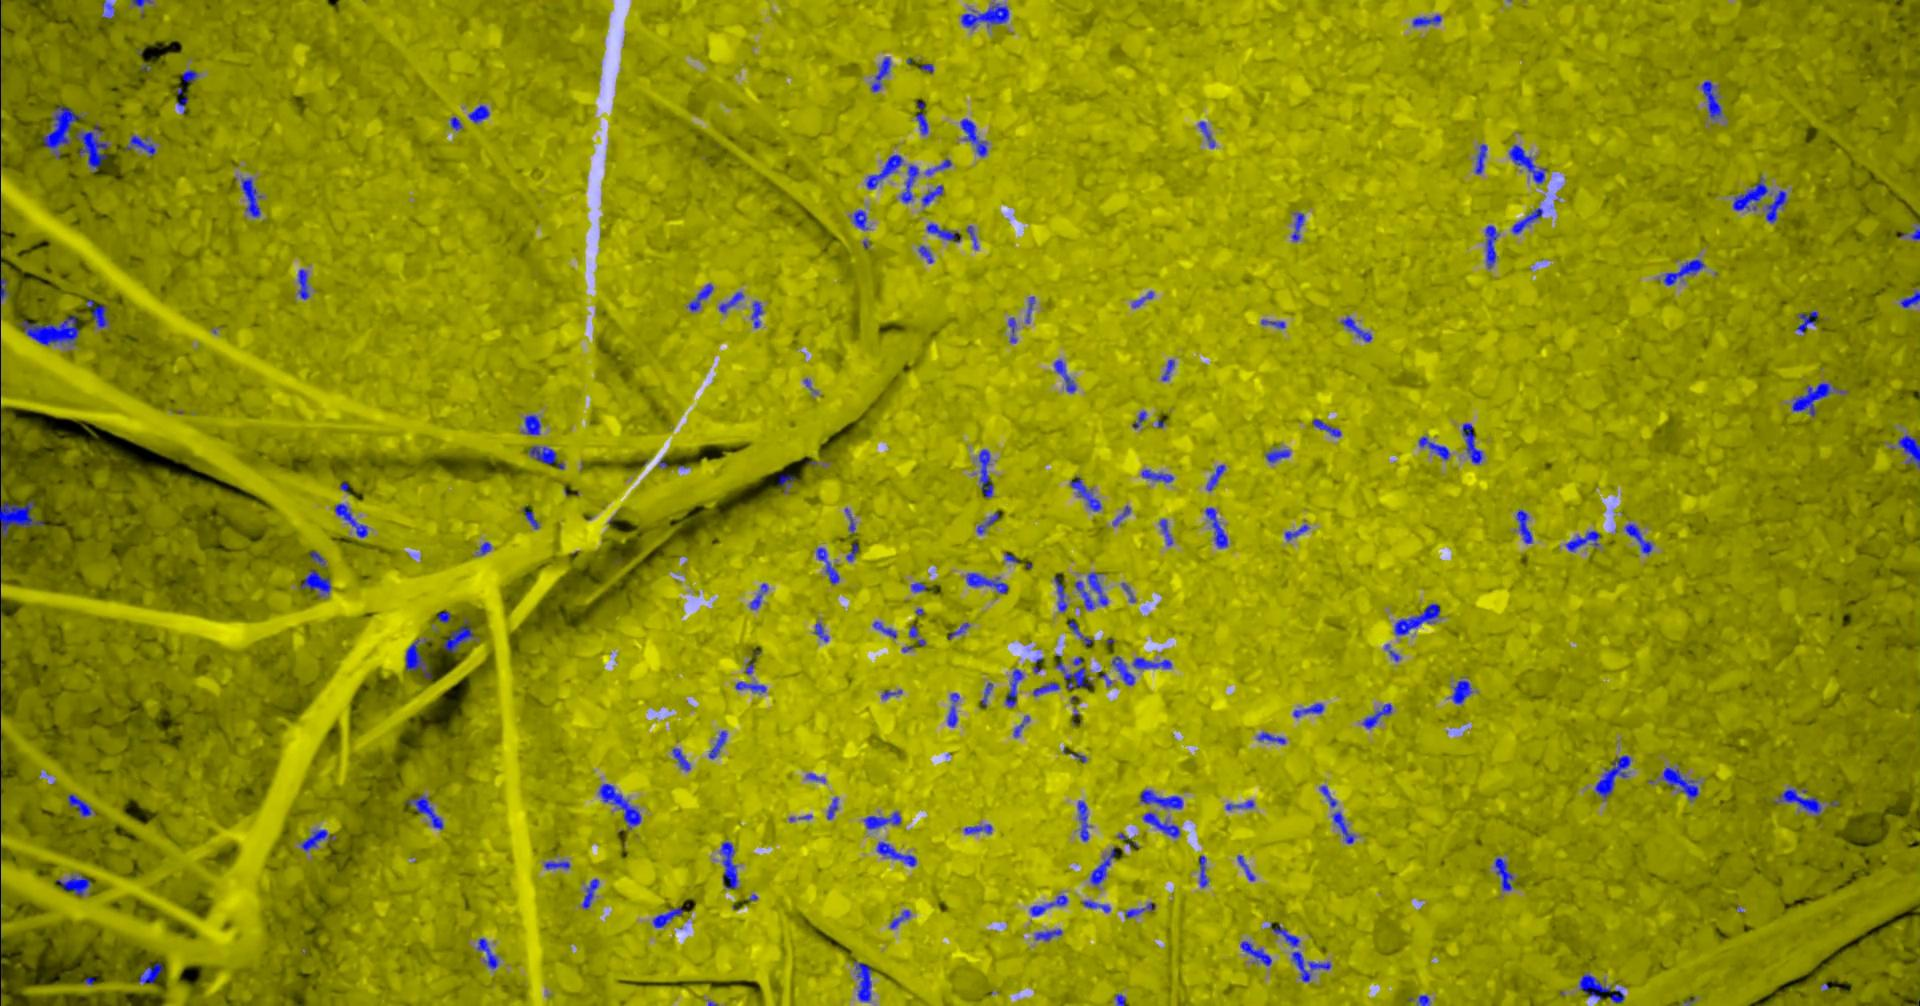ant: (1, 499, 44, 555), (43, 105, 83, 158), (599, 782, 643, 828), (22, 314, 81, 345), (1793, 382, 1848, 417), (77, 123, 110, 171), (1596, 754, 1632, 798), (1510, 144, 1548, 183), (1396, 603, 1441, 635), (1581, 973, 1625, 1005), (408, 795, 444, 829), (1057, 655, 1095, 688), (869, 154, 904, 188), (1663, 767, 1700, 800), (963, 3, 1010, 28), (1780, 788, 1823, 814), (1293, 951, 1332, 981), (1735, 177, 1769, 210), (1070, 476, 1103, 511), (337, 503, 370, 537), (1665, 259, 1705, 285), (877, 841, 918, 866), (963, 118, 989, 156), (1091, 847, 1117, 885), (408, 639, 433, 678), (444, 619, 474, 652), (1144, 812, 1181, 837), (1206, 507, 1229, 547), (968, 572, 1010, 593), (1463, 423, 1484, 464), (530, 445, 565, 469), (1625, 523, 1655, 553), (818, 547, 841, 584), (721, 841, 739, 888), (243, 177, 263, 217), (1512, 207, 1544, 232), (1703, 80, 1723, 119), (1142, 789, 1183, 808), (301, 569, 331, 594), (1242, 940, 1272, 965), (1364, 702, 1393, 728), (1567, 530, 1601, 551), (1342, 316, 1373, 340), (980, 448, 996, 497), (1420, 436, 1451, 459), (1031, 895, 1069, 915), (855, 960, 872, 1001), (1055, 359, 1077, 392), (1898, 434, 1920, 467), (1335, 810, 1356, 843), (58, 874, 91, 895), (1112, 655, 1137, 685), (865, 810, 902, 829), (1007, 668, 1025, 708), (127, 133, 157, 156), (477, 937, 500, 968), (690, 283, 714, 311), (1272, 923, 1302, 946), (902, 165, 919, 202), (872, 57, 891, 91), (1768, 191, 1788, 222), (88, 298, 110, 326), (69, 793, 97, 815), (1090, 572, 1109, 605), (302, 829, 333, 850), (654, 907, 684, 927), (928, 224, 963, 241), (1070, 619, 1093, 645), (1486, 225, 1500, 268), (1496, 857, 1514, 890), (1076, 580, 1096, 608), (720, 291, 745, 312), (1517, 509, 1534, 542), (1451, 680, 1474, 702), (1208, 464, 1227, 490), (1314, 418, 1342, 436), (710, 730, 728, 758), (1797, 310, 1820, 332), (978, 512, 1001, 533), (140, 963, 164, 983), (750, 583, 770, 608), (1238, 854, 1256, 880), (584, 878, 599, 908), (1126, 902, 1157, 917), (1134, 657, 1173, 668), (1200, 121, 1217, 147), (949, 692, 961, 727), (1, 260, 11, 302), (917, 100, 930, 133), (927, 158, 952, 174), (923, 184, 943, 205), (1079, 800, 1090, 841), (469, 104, 490, 123), (1295, 702, 1324, 716), (1057, 575, 1068, 611), (1143, 469, 1175, 481), (874, 621, 898, 638), (674, 748, 692, 770), (1321, 785, 1338, 807), (1133, 291, 1156, 307), (1161, 518, 1175, 545), (1476, 144, 1488, 173), (1293, 212, 1305, 241), (1258, 730, 1288, 743), (1286, 525, 1310, 540), (737, 681, 768, 692), (891, 909, 910, 929), (524, 414, 542, 434), (1034, 682, 1062, 695), (298, 268, 310, 298), (524, 506, 540, 528), (1901, 290, 1920, 307), (1114, 506, 1131, 525), (1267, 448, 1291, 462), (1015, 715, 1031, 735), (1083, 901, 1112, 912), (1415, 14, 1443, 25), (1036, 929, 1064, 940), (778, 473, 795, 492), (982, 682, 994, 706), (753, 301, 764, 326), (815, 622, 830, 641), (855, 210, 869, 230), (1200, 855, 1209, 887), (919, 245, 935, 263), (968, 225, 979, 248), (828, 796, 839, 819), (1163, 359, 1176, 380), (1227, 800, 1255, 809), (1027, 296, 1036, 323), (966, 824, 993, 833), (311, 550, 326, 565), (183, 69, 199, 83), (848, 542, 860, 561), (1010, 318, 1018, 342), (1262, 319, 1286, 328), (545, 861, 571, 869), (913, 580, 930, 592), (452, 116, 463, 130), (439, 611, 452, 622), (480, 542, 491, 554), (1418, 995, 1431, 1005)
